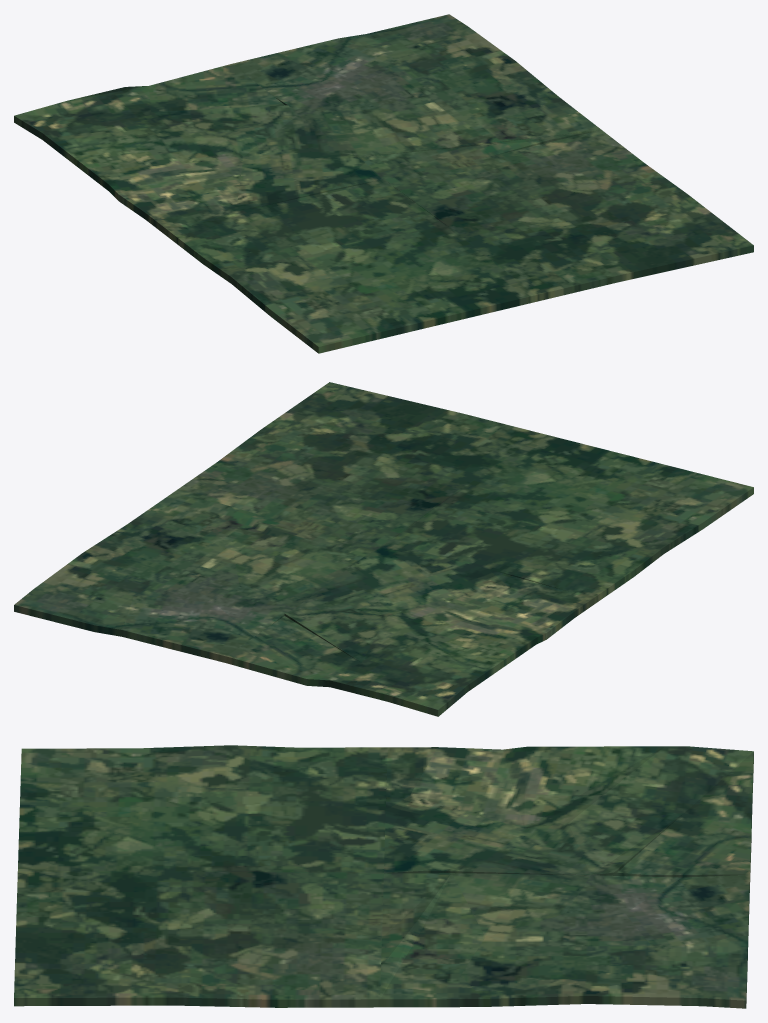
File: BuildingMesh-00478.gltf
3 views of the same model, one above another, from view 1: azimuth 30°, elevation 25°; view 2: azimuth 150°, elevation 25°; view 3: azimuth 270°, elevation 25° (orthographic). The views are drawn at different scales.
Parts seen in each view (by area): view 1: BuildingMesh-00478; view 2: BuildingMesh-00478; view 3: BuildingMesh-00478.
Part boxes in pixels (left/top/right/bottom): BuildingMesh-00478: left=14, top=14, right=753, bottom=353; BuildingMesh-00478: left=14, top=382, right=753, bottom=716; BuildingMesh-00478: left=14, top=745, right=753, bottom=1008.
Bounding box in the file's own units: 811 × 24.5 × 1008.
1 material, 1 textured.
